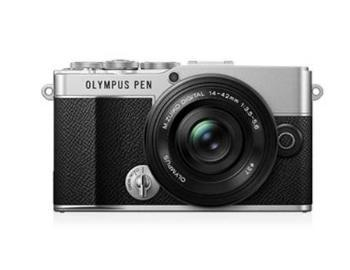degital-camera: (47, 59, 320, 219)
